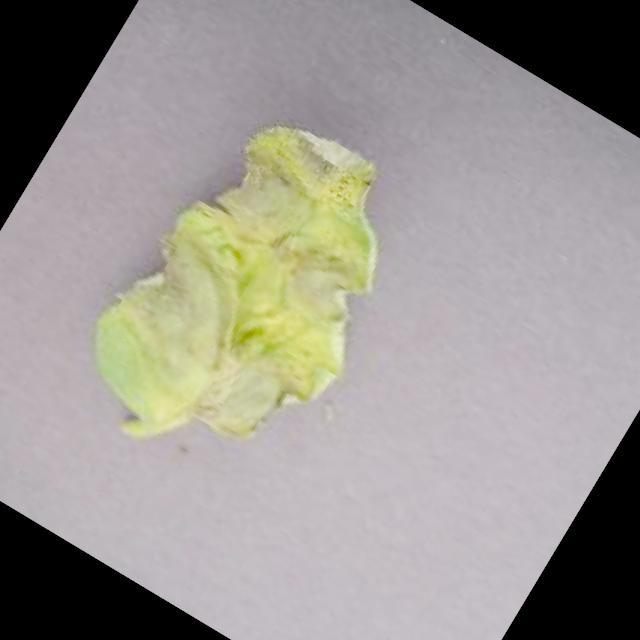Tomato late blight leaf: (59, 74, 448, 500)
